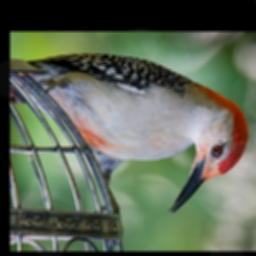Woodpecker: (11, 52, 248, 212)
